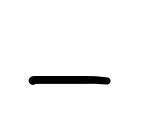minus: (28, 72, 109, 88)
